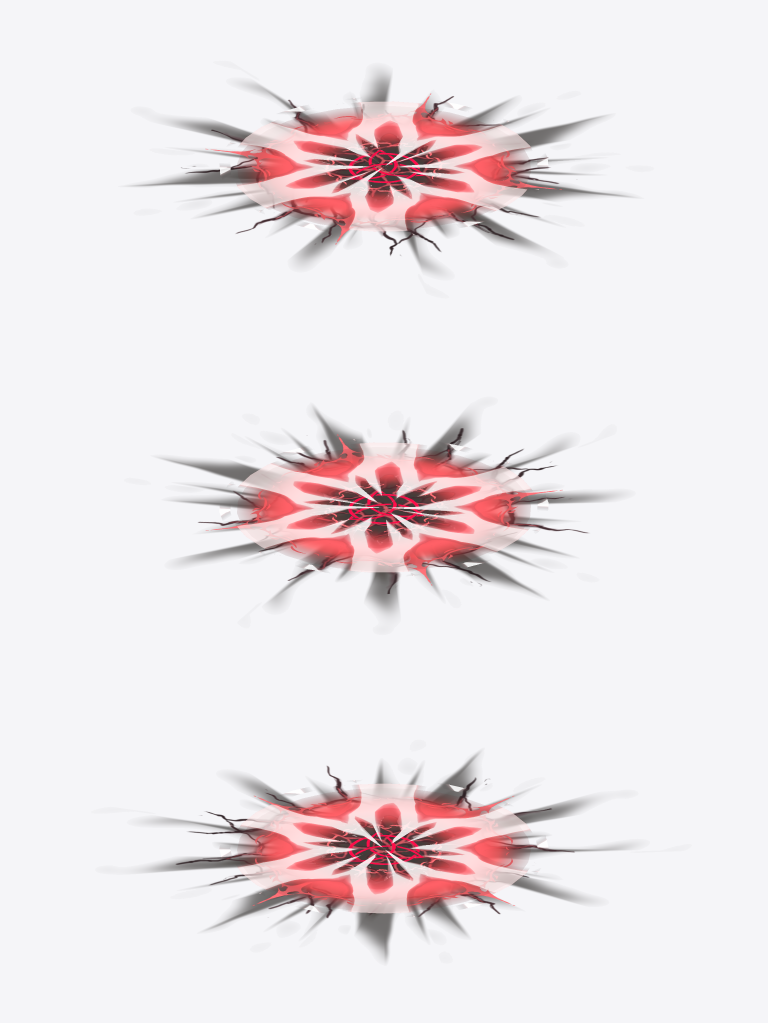
File: VFX_Bomb_Details.gltf
3 renders of one model, top to bottom at view 1: azimuth 30°, elevation 25°; view 2: azimuth 150°, elevation 25°; view 3: azimuth 270°, elevation 25°, orthographic.
Visible parts, largest first — view 1: VFX_Bomb_Light_Impact, VFX_Bomb_Main_Light_Impact, VFX_Bomb_Ground_BlackStains, VFX_Bomb_Ground_After, VFX_Bomb_Indicator, VFX_Bomb_FireShadow_Ipact, VFX_Bomb_Indicator_Small_Symbol; view 2: VFX_Bomb_Light_Impact, VFX_Bomb_Main_Light_Impact, VFX_Bomb_Ground_BlackStains, VFX_Bomb_Ground_After, VFX_Bomb_Indicator, VFX_Bomb_FireShadow_Ipact, VFX_Bomb_Indicator_Small_Symbol; view 3: VFX_Bomb_Light_Impact, VFX_Bomb_Main_Light_Impact, VFX_Bomb_Ground_BlackStains, VFX_Bomb_Ground_After, VFX_Bomb_Indicator, VFX_Bomb_FireShadow_Ipact, VFX_Bomb_Indicator_Small_Symbol.
Part boxes in pixels (box(x1,y1,x2,y2)): VFX_Bomb_Light_Impact: box(239, 108, 528, 227); VFX_Bomb_Main_Light_Impact: box(219, 98, 548, 234); VFX_Bomb_Ground_BlackStains: box(130, 70, 632, 273); VFX_Bomb_Ground_After: box(181, 96, 558, 255); VFX_Bomb_Indicator: box(206, 93, 561, 244); VFX_Bomb_FireShadow_Ipact: box(309, 134, 456, 201); VFX_Bomb_Indicator_Small_Symbol: box(348, 149, 425, 182); VFX_Bomb_Light_Impact: box(239, 449, 528, 568); VFX_Bomb_Main_Light_Impact: box(219, 439, 548, 575); VFX_Bomb_Ground_BlackStains: box(161, 407, 618, 615); VFX_Bomb_Ground_After: box(198, 428, 587, 593); VFX_Bomb_Indicator: box(206, 434, 562, 585); VFX_Bomb_FireShadow_Ipact: box(310, 475, 456, 541); VFX_Bomb_Indicator_Small_Symbol: box(348, 490, 424, 523); VFX_Bomb_Light_Impact: box(239, 790, 528, 909); VFX_Bomb_Main_Light_Impact: box(219, 780, 548, 916); VFX_Bomb_Ground_BlackStains: box(141, 752, 632, 961); VFX_Bomb_Ground_After: box(176, 766, 574, 917); VFX_Bomb_Indicator: box(252, 795, 514, 905); VFX_Bomb_FireShadow_Ipact: box(311, 816, 456, 883); VFX_Bomb_Indicator_Small_Symbol: box(348, 832, 423, 864).
Bounding box in the file's own units: 10.79 × 0.0742 × 10.79.
Materials: 10 (10 with a texture image).
